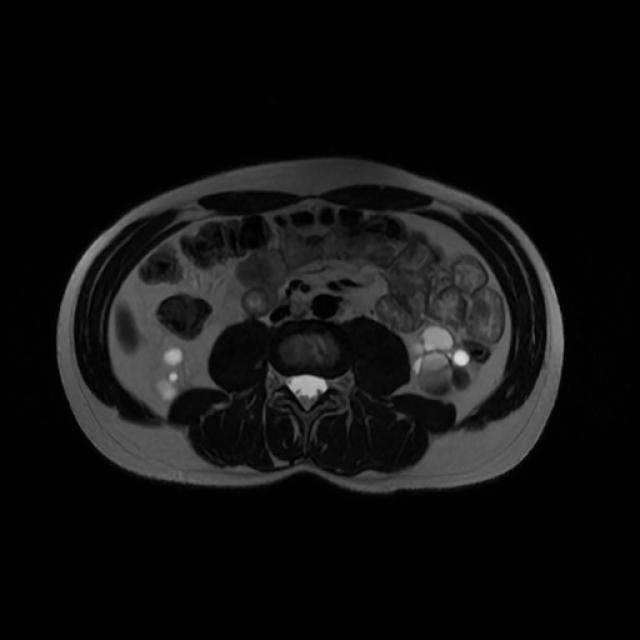sag: (161, 346, 185, 402)
sol: (411, 329, 473, 395)
